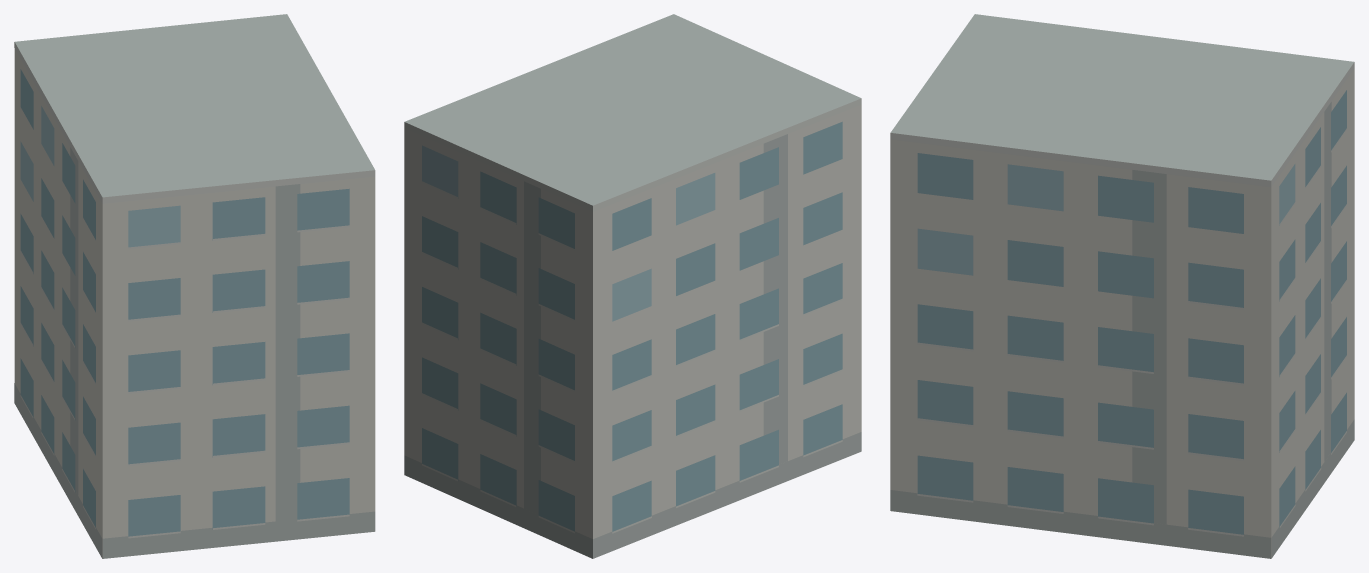
Rendered from survey-upis-32964156.glb.
3 renders of one model, left to right at view 1: azimuth 30°, elevation 25°; view 2: azimuth 150°, elevation 25°; view 3: azimuth 270°, elevation 25°, orthographic. The views are drawn at different scales.
Visible parts, largest first — view 1: survey-upis-32964156.tmp; view 2: survey-upis-32964156.tmp; view 3: survey-upis-32964156.tmp.
Part boxes in pixels (left/top/right/bottom): survey-upis-32964156.tmp: left=14, top=14, right=375, bottom=558; survey-upis-32964156.tmp: left=404, top=14, right=861, bottom=558; survey-upis-32964156.tmp: left=890, top=14, right=1354, bottom=558.
Bounding box in the file's own units: 13.24 × 14 × 15.58.
